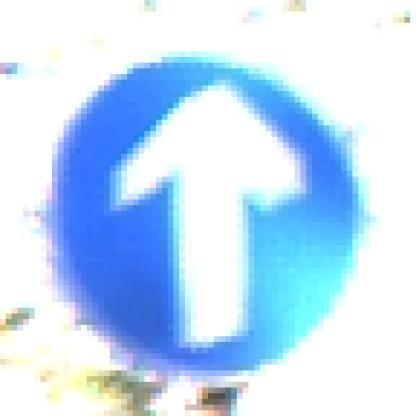straight: (35, 40, 364, 388)
